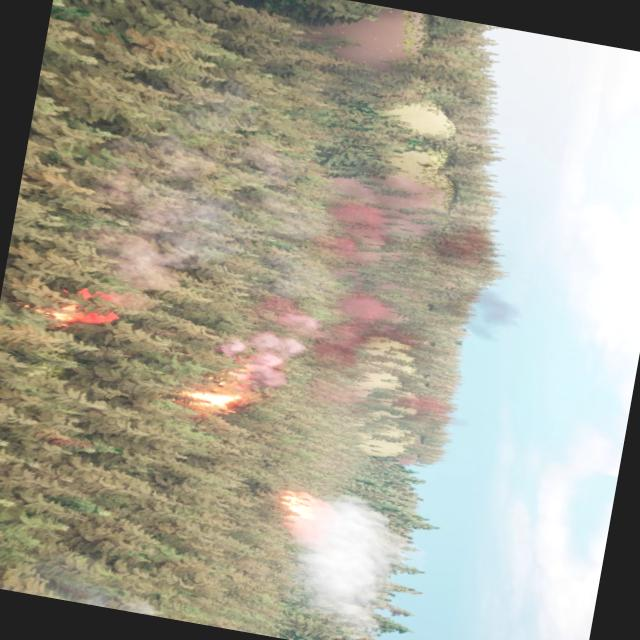fire: (36, 276, 130, 342), (182, 362, 266, 428), (264, 484, 319, 534)
smoke: (280, 484, 416, 640), (211, 292, 331, 390)
